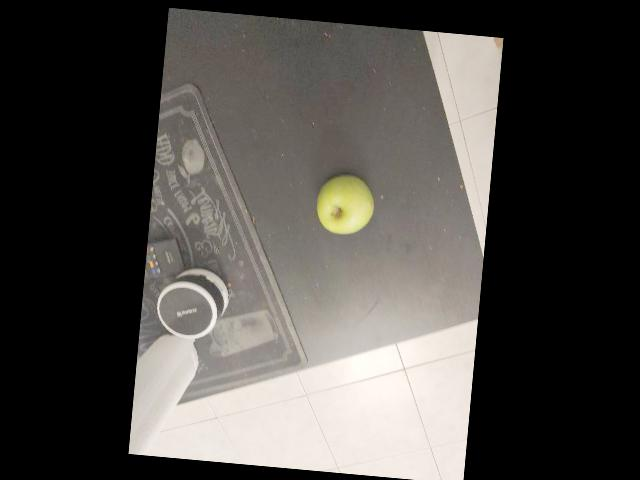apple: (365, 300, 449, 374)
